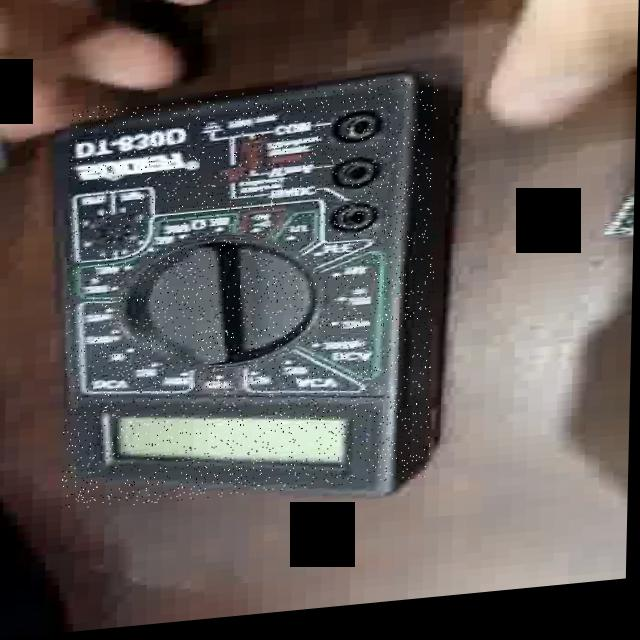multimeter: (64, 82, 439, 514)
